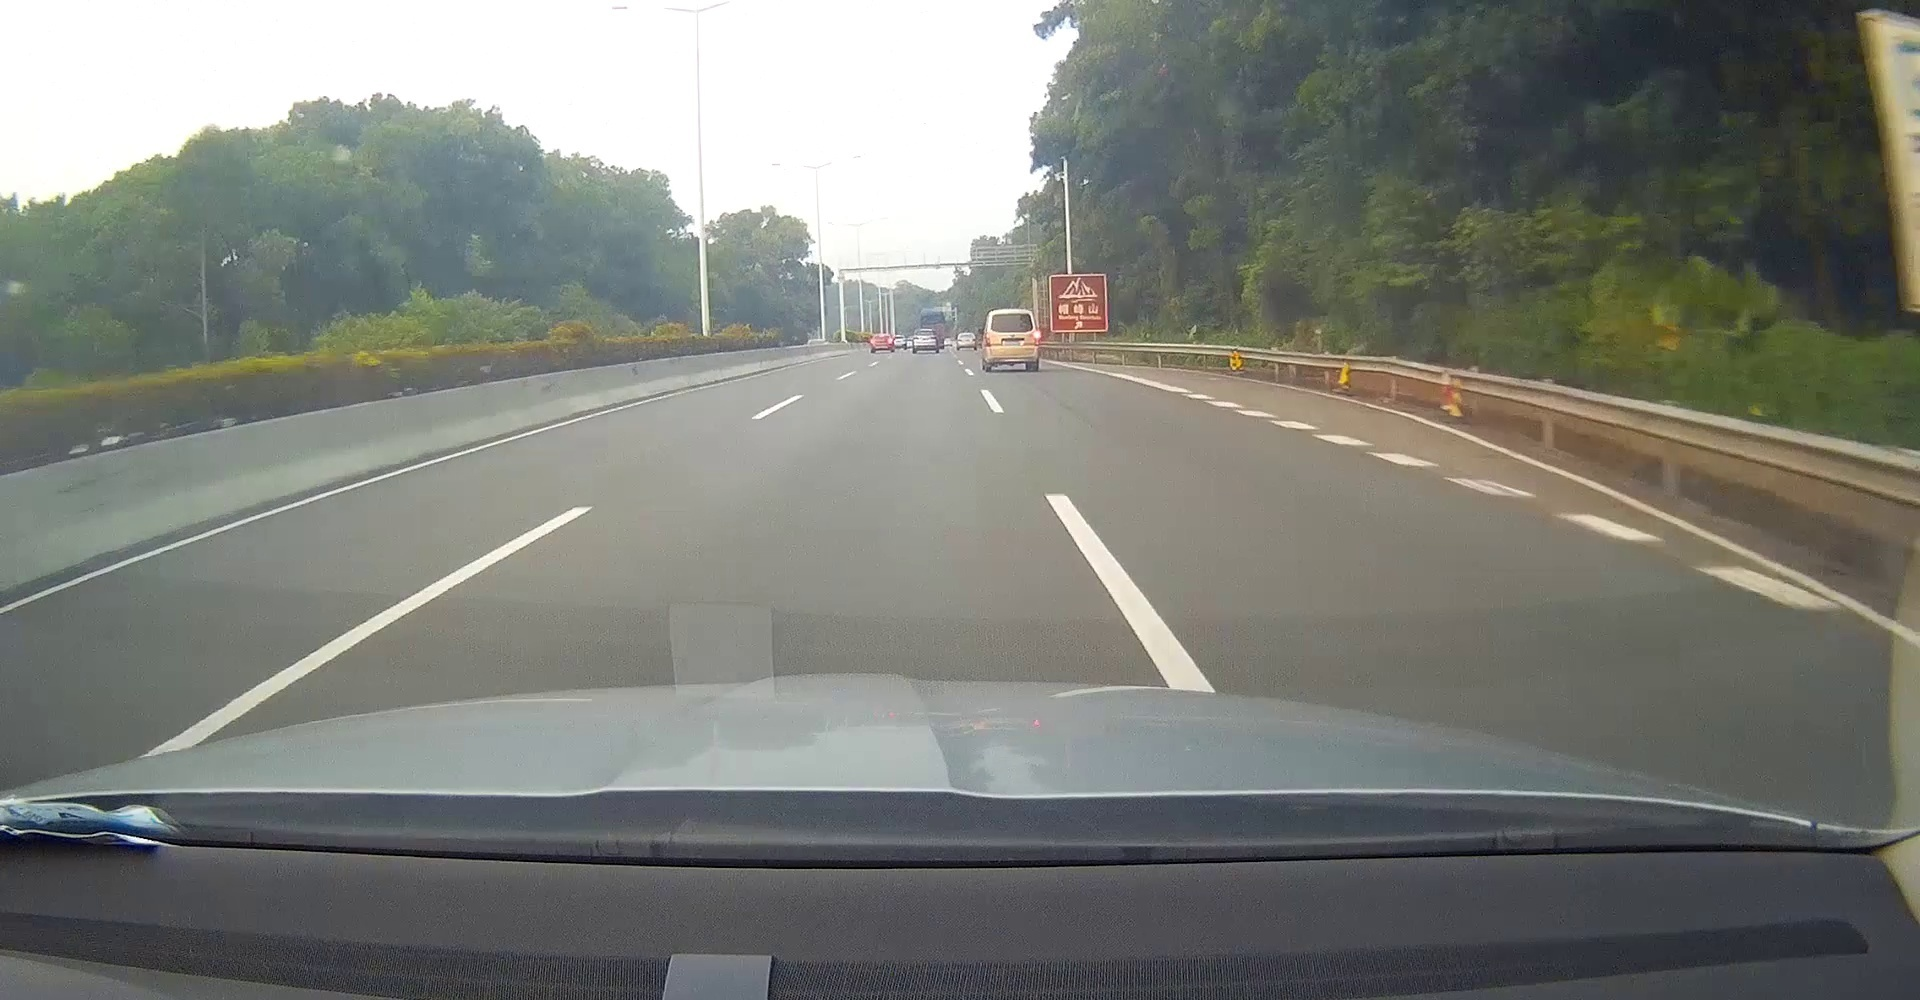L_light: (984, 332, 990, 346)
R_light: (1034, 332, 1040, 345)
T_light: (1006, 313, 1016, 317)
day-right: (982, 308, 1040, 372)
